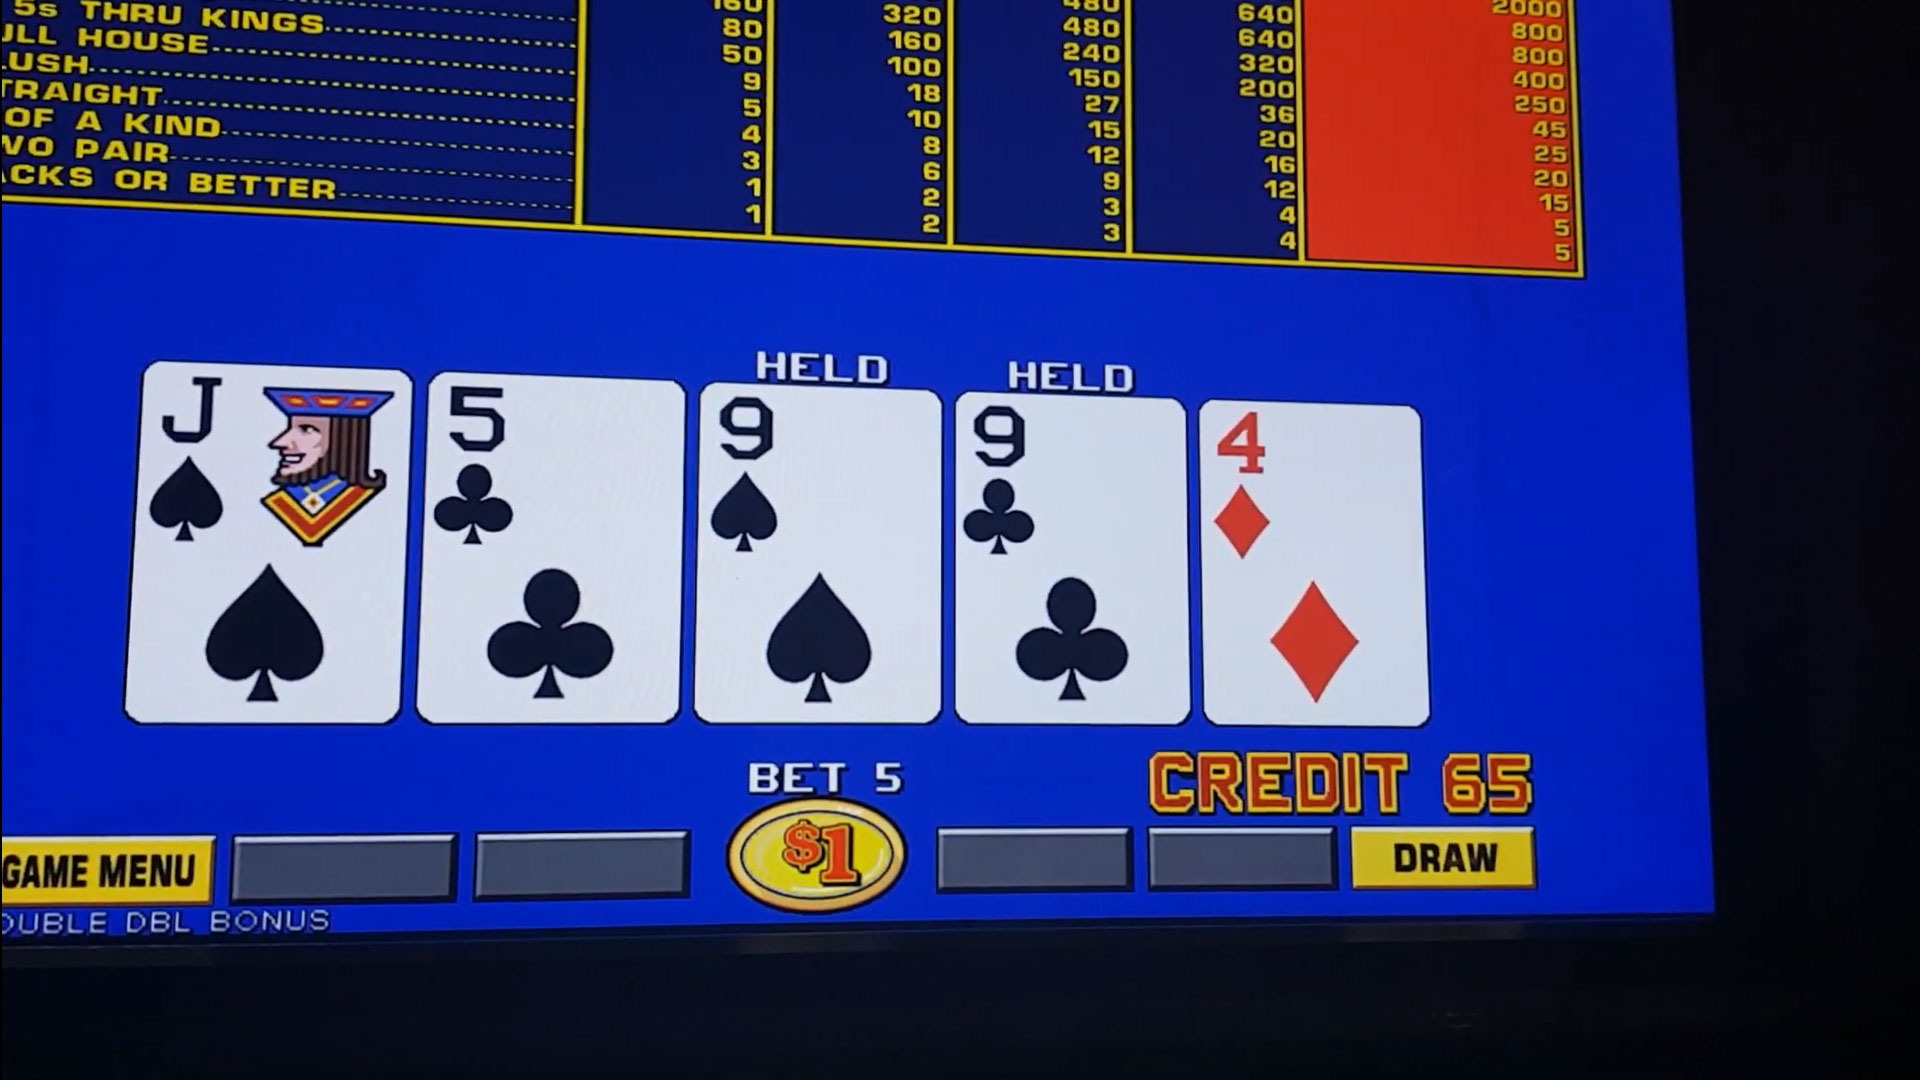C5: (435, 382, 676, 554)
C9: (965, 404, 1185, 570)
D4: (1208, 407, 1418, 567)
S9: (707, 396, 934, 568)
SJ: (145, 373, 402, 560)
